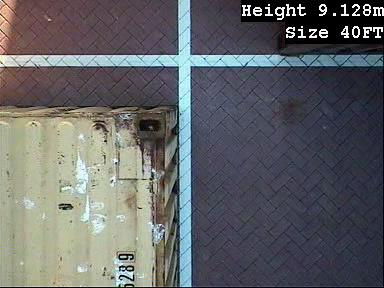groundmarker_2: (13, 1, 119, 134)
